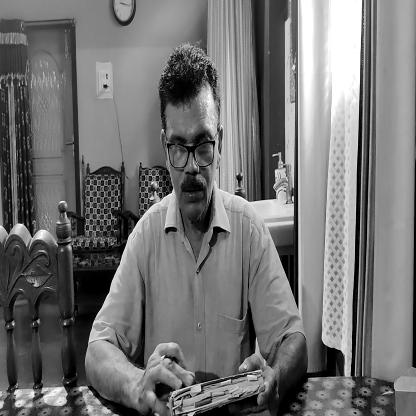Normal: (156, 47, 219, 223)
